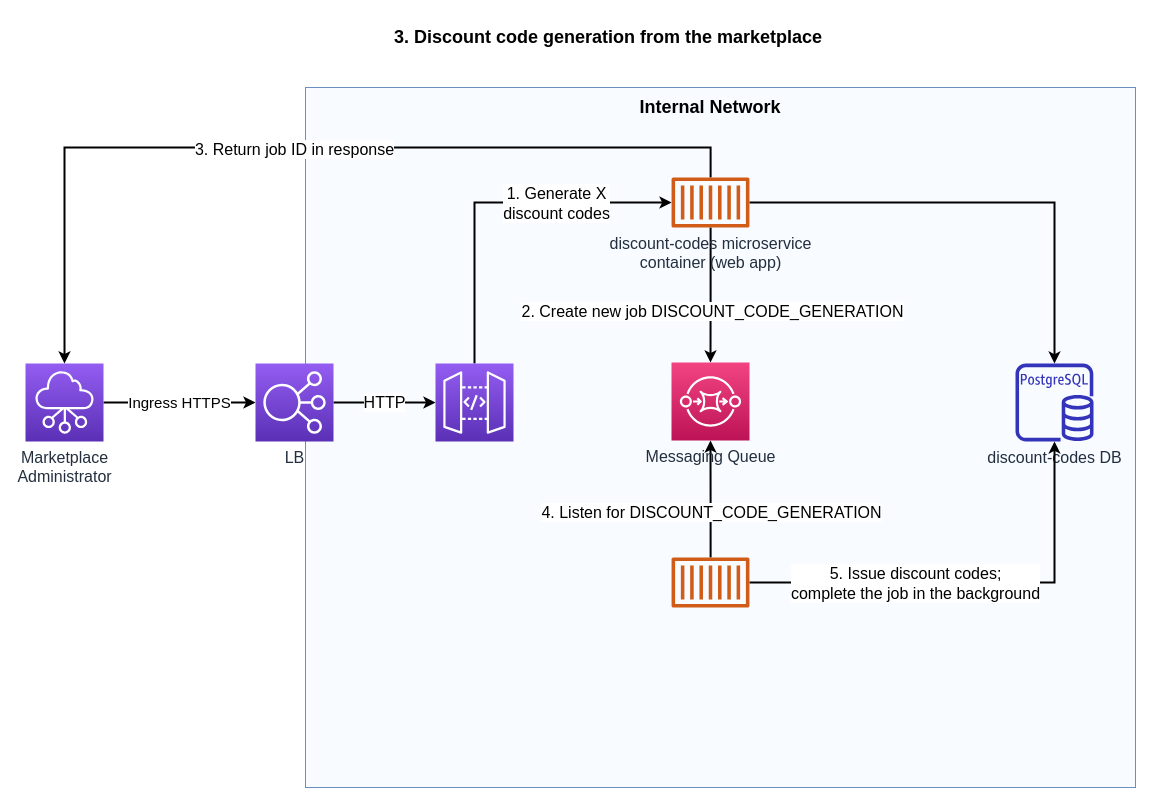
Some shapes in this 1153 by 805 pixel diagram are drawn without their labels. Each missing label, with the box of its shape:
API Gateway: (434, 362, 514, 442)
discount-codes microservice container (worker mode): (671, 557, 749, 607)
